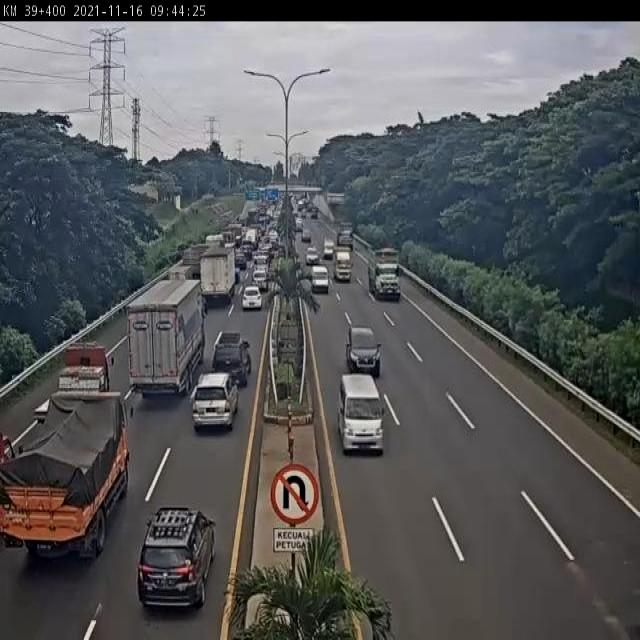Car: (137, 504, 217, 614), (192, 373, 240, 433), (212, 331, 253, 388), (344, 325, 382, 377), (242, 286, 262, 311), (250, 269, 270, 291), (304, 247, 320, 265)
Truck: (0, 389, 134, 561), (124, 279, 209, 399), (32, 343, 116, 429), (198, 247, 240, 305), (367, 248, 402, 302), (180, 242, 212, 278), (332, 245, 355, 282), (336, 222, 355, 251), (168, 265, 194, 281), (246, 230, 260, 248), (246, 208, 258, 225)
Van: (311, 266, 331, 293), (324, 240, 336, 259)
